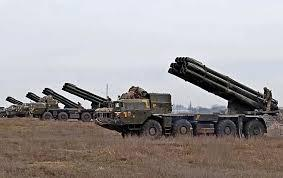MIL_SAM_TEL: (93, 54, 281, 140), (29, 80, 112, 123)
